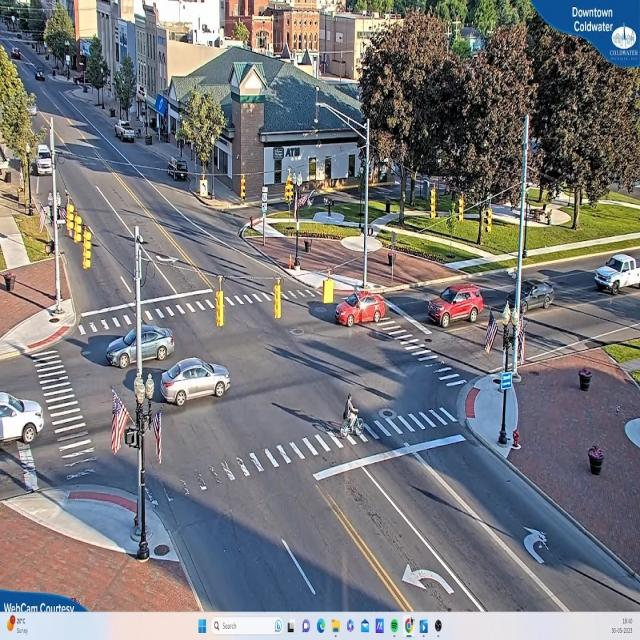bicycle: (336, 393, 366, 435)
car: (156, 358, 230, 408), (425, 284, 485, 328), (0, 390, 43, 448), (508, 276, 554, 312), (595, 255, 637, 292), (334, 296, 384, 326), (141, 323, 174, 362), (100, 338, 137, 368), (37, 144, 55, 176), (166, 160, 189, 181), (116, 123, 136, 143)
